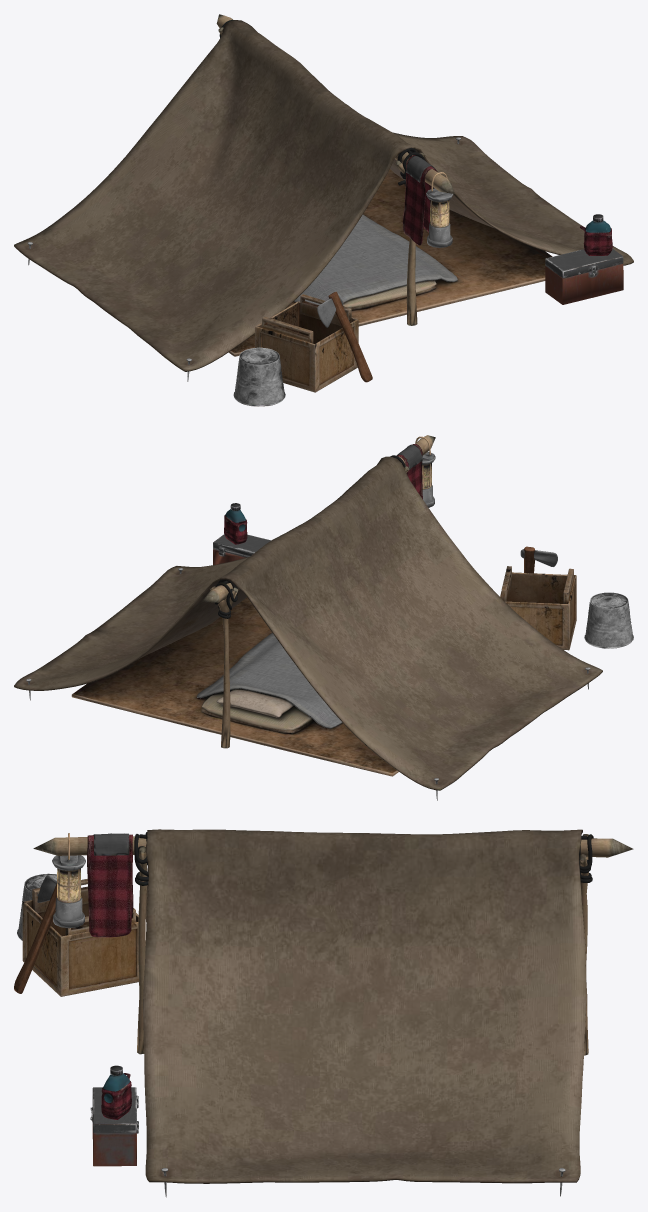
File: tent2.glb
3 renders of one model, top to bottom at view 1: azimuth 30°, elevation 25°; view 2: azimuth 150°, elevation 25°; view 3: azimuth 270°, elevation 25°, orthographic. The views are drawn at different scales.
Parts seen in each view (by area): view 1: ch1.tent2.005; view 2: ch1.tent2.005; view 3: ch1.tent2.005.
Part boxes in pixels (x1=…): ch1.tent2.005: x1=14, y1=14, x2=633, y2=406; ch1.tent2.005: x1=14, y1=435, x2=633, y2=800; ch1.tent2.005: x1=14, y1=829, x2=633, y2=1197.
Bounding box in the file's own units: 2.96 × 1.17 × 2.82.
Materials: 4 (4 with a texture image).
